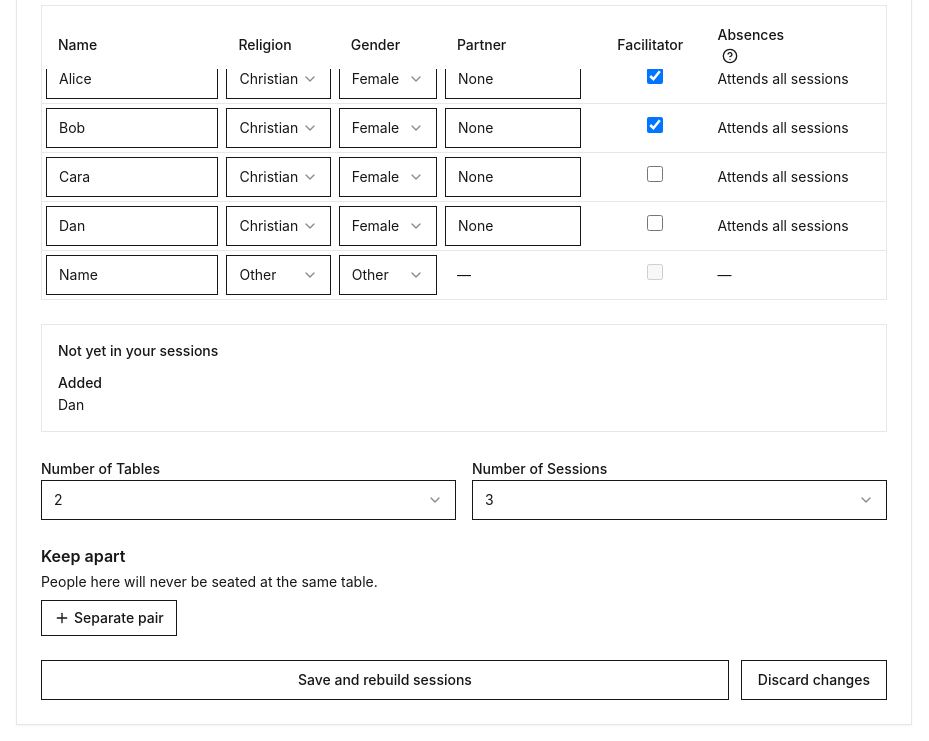
Scenario: rebuilding from the roster › shows the refusal and leaves the roster alone
(page scrolled)
Click the button "Save and rebuild sessions": (385, 680) [41,660,729,700]
(page scrolled)
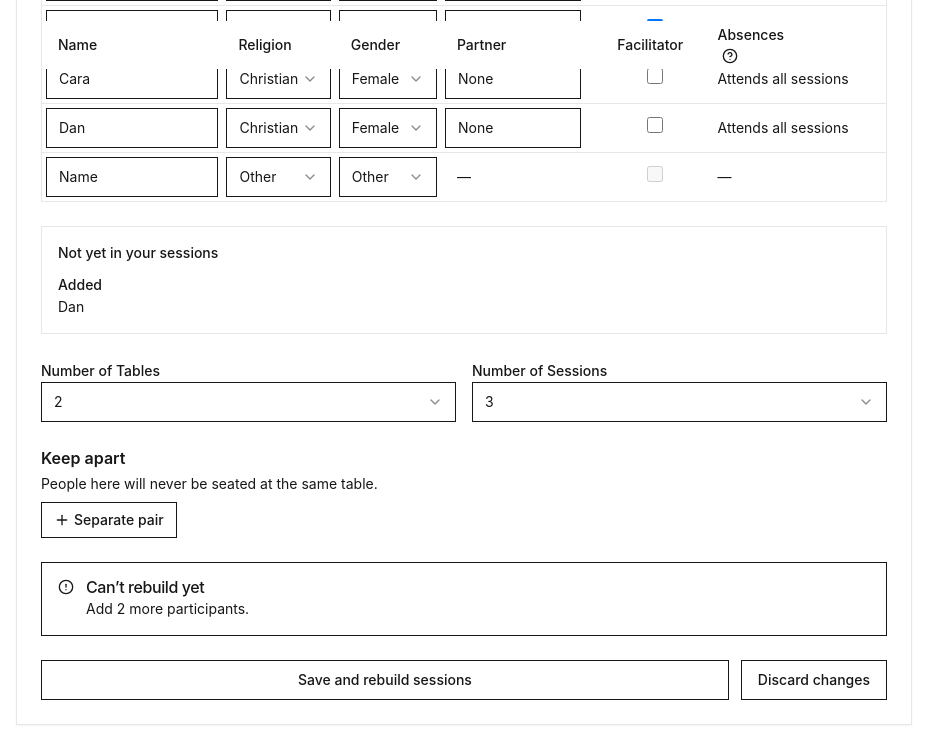
Expected: the text "Add 2 more participants." is shown, [86,600,249,616]
